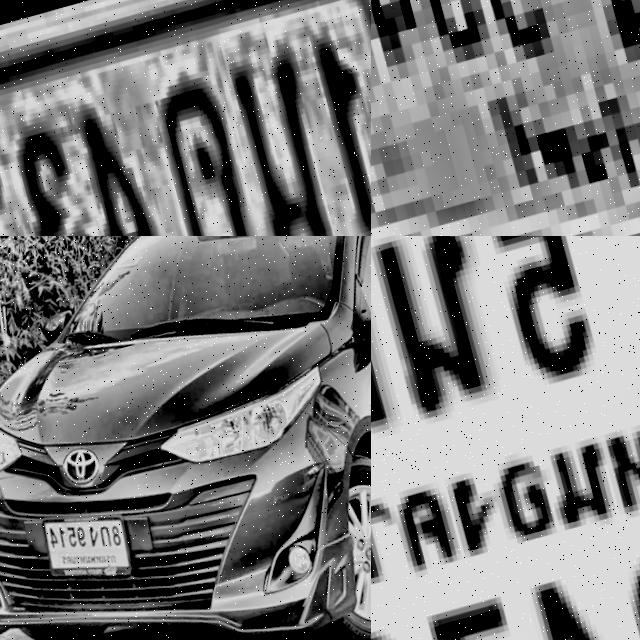license-plate: (371, 236, 640, 640), (0, 0, 371, 236), (371, 0, 640, 236), (31, 495, 140, 596)
